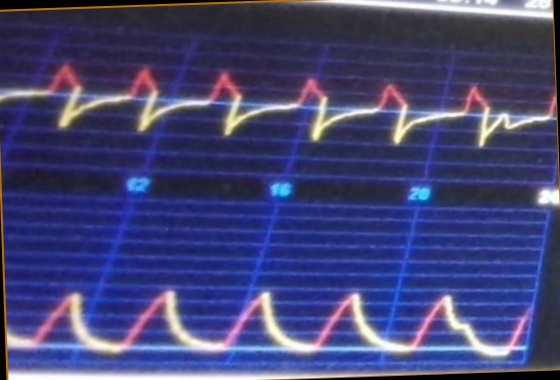Premature_cycling Flow: (4, 58, 554, 155)
Premature_cycling Volume: (9, 282, 530, 366)
